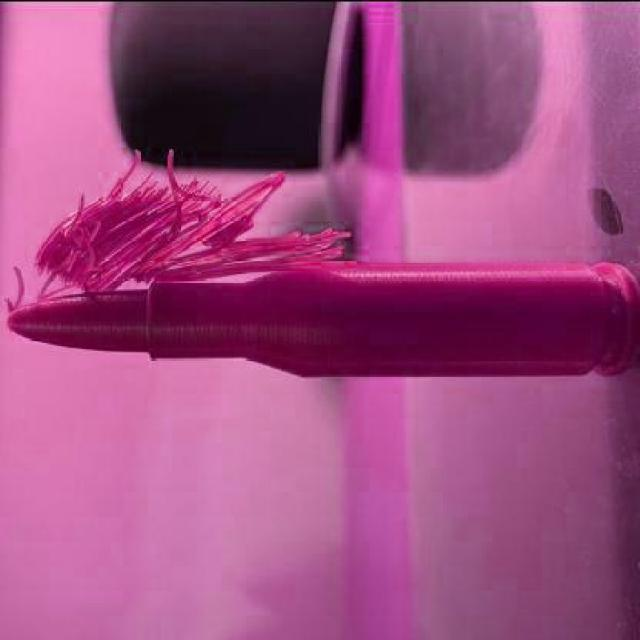spaghetti: (11, 150, 351, 304)
